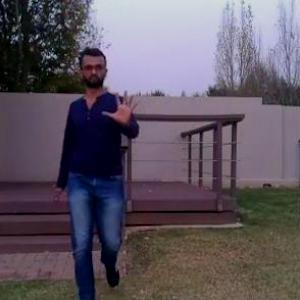follow_hand: (100, 84, 143, 128)
